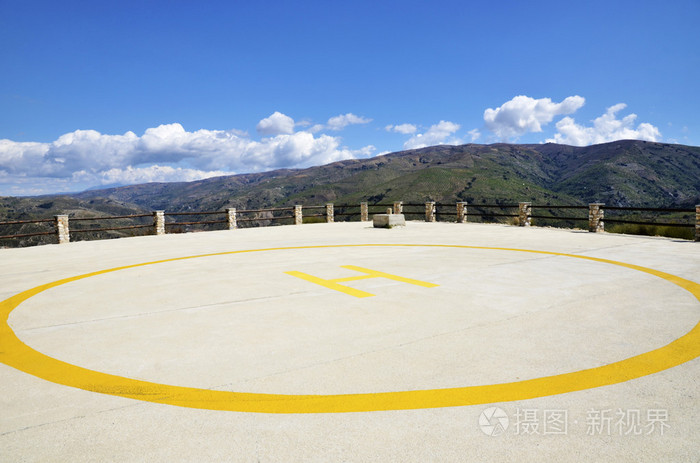H: (284, 264, 441, 298)
